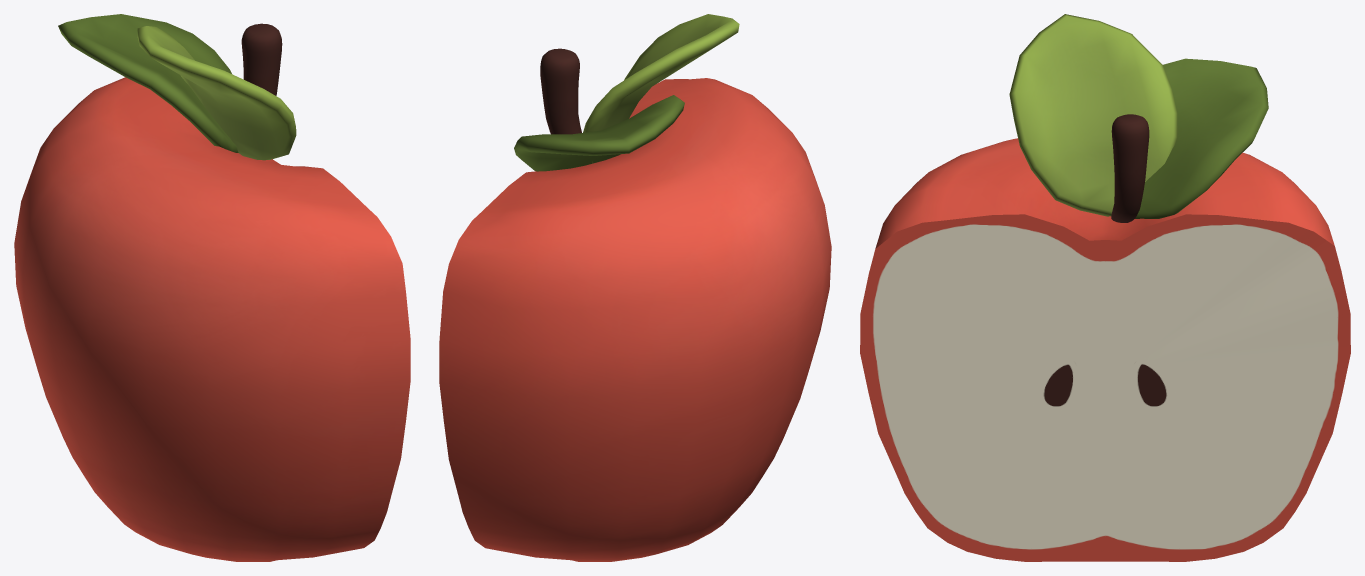
The model's file is apple726 leaf.fbx.
3 renders of one model, left to right at view 1: azimuth 30°, elevation 25°; view 2: azimuth 150°, elevation 25°; view 3: azimuth 270°, elevation 25°, orthographic. The views are drawn at different scales.
Visible parts, largest first — view 1: apple; view 2: apple; view 3: apple.
Part boxes in pixels (x1,y1,x2,y2): apple: (14,14,410,561); apple: (439,14,831,561); apple: (860,14,1350,561).
Bounding box in the file's own units: 1.16 × 2.34 × 2.15.
2 materials, 2 textured.
